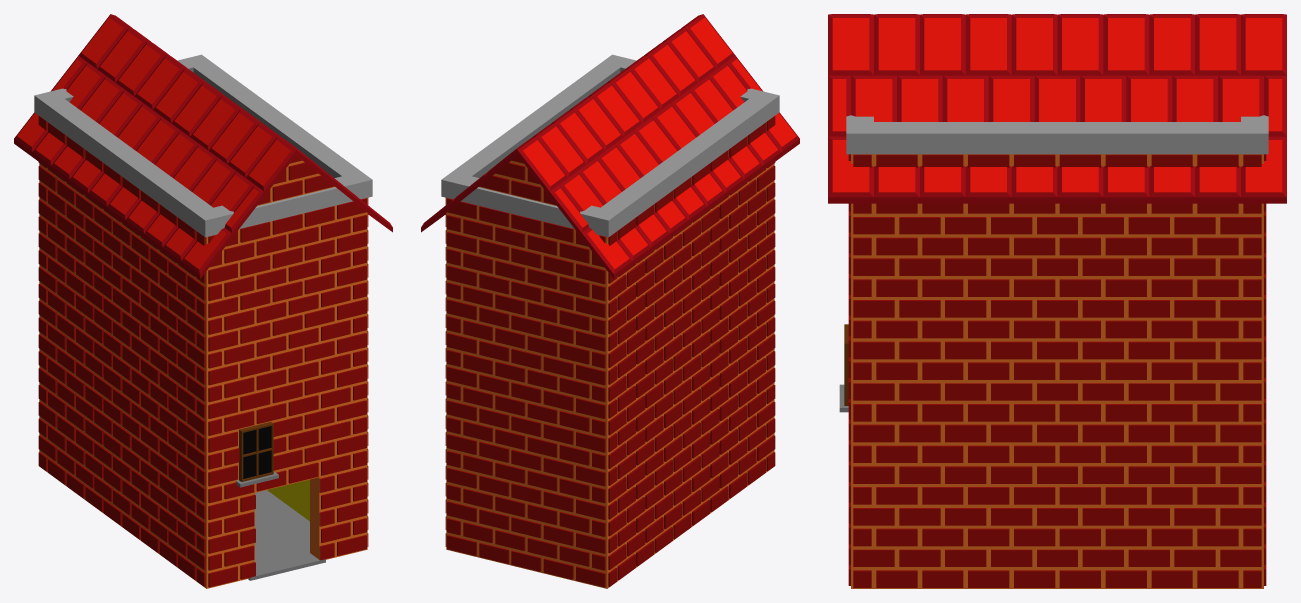
File: apart.fbx
3 views of the same model, side by side, from view 1: azimuth 30°, elevation 25°; view 2: azimuth 150°, elevation 25°; view 3: azimuth 270°, elevation 25° (orthographic). The views are drawn at different scales.
Parts seen in each view (by area): view 1: wall.002, wall.003, wall.001, wall, ladders.001, Cube; view 2: wall.002, wall.003, wall.001, wall; view 3: wall.002, wall.003, wall.001, wall, Cube.
Part boxes in pixels (x1,y1,x2,y2): wall.002: (38,214,368,504); wall.003: (14,14,392,333); wall.001: (34,54,372,336); wall: (38,382,368,588); ladders.001: (248,490,325,580); Cube: (235,422,278,487); wall.002: (445,214,775,504); wall.003: (421,14,799,330); wall.001: (441,54,779,336); wall: (445,382,775,588); wall.002: (848,274,1266,484); wall.003: (828,14,1286,275); wall.001: (846,115,1268,277); wall: (848,482,1266,588); Cube: (839,324,848,412).
Size of the model in its own units: 1200 by 2540 by 2000.
